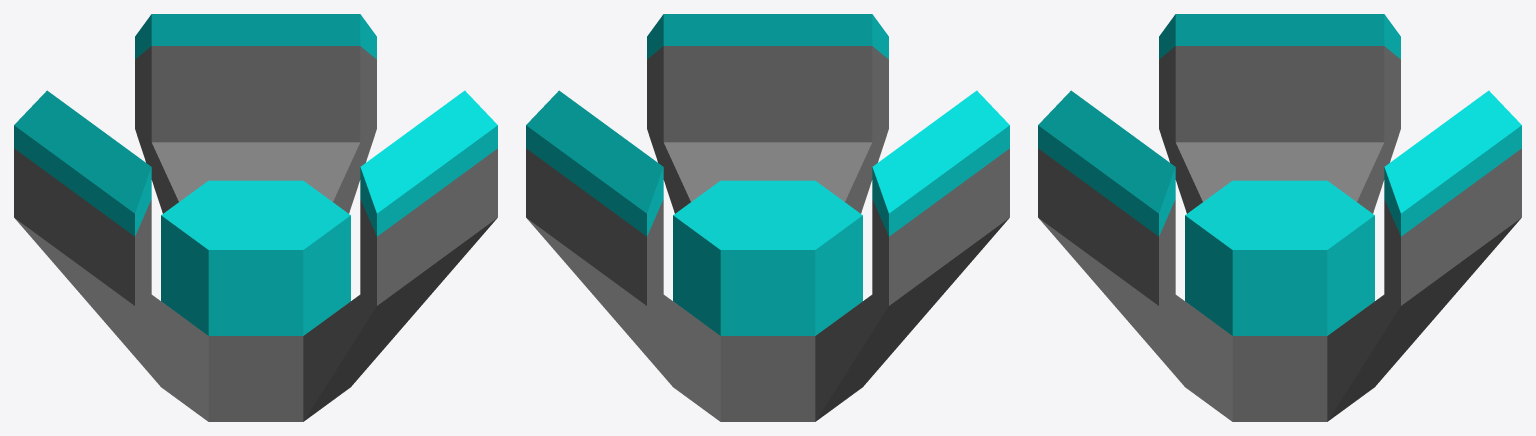
File: Claw.fbx
3 renders of one model, left to right at view 1: azimuth 30°, elevation 25°; view 2: azimuth 150°, elevation 25°; view 3: azimuth 270°, elevation 25°, orthographic.
Parts seen in each view (by area): view 1: Cylinder; view 2: Cylinder; view 3: Cylinder.
Part boxes in pixels (bbox=[...]): Cylinder: bbox=[14, 14, 497, 421]; Cylinder: bbox=[526, 14, 1009, 421]; Cylinder: bbox=[1038, 14, 1521, 421].
Size of the model in its own units: 442 by 345 by 510.
